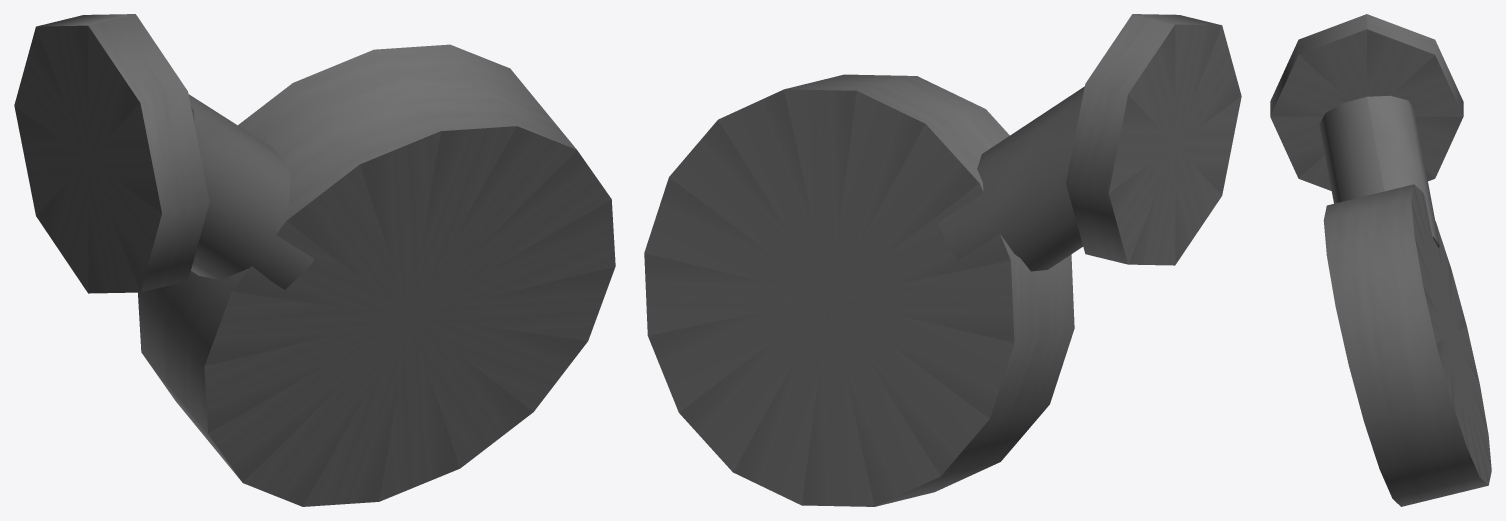
File: mastarmcurve_6x2_c5_west.obj
3 views of the same model, side by side, from view 1: azimuth 30°, elevation 25°; view 2: azimuth 150°, elevation 25°; view 3: azimuth 270°, elevation 25° (orthographic). The views are drawn at different scales.
Parts seen in each view (by area): view 1: mastarm_6x2_c5_west; view 2: mastarm_6x2_c5_west; view 3: mastarm_6x2_c5_west.
Boxes of the visible parts, bbox=[...] form: mastarm_6x2_c5_west: bbox=[14, 14, 615, 506]; mastarm_6x2_c5_west: bbox=[644, 14, 1241, 506]; mastarm_6x2_c5_west: bbox=[1270, 14, 1491, 506].
Bounding box in the file's own units: 0.8207 × 0.8588 × 0.4585.
